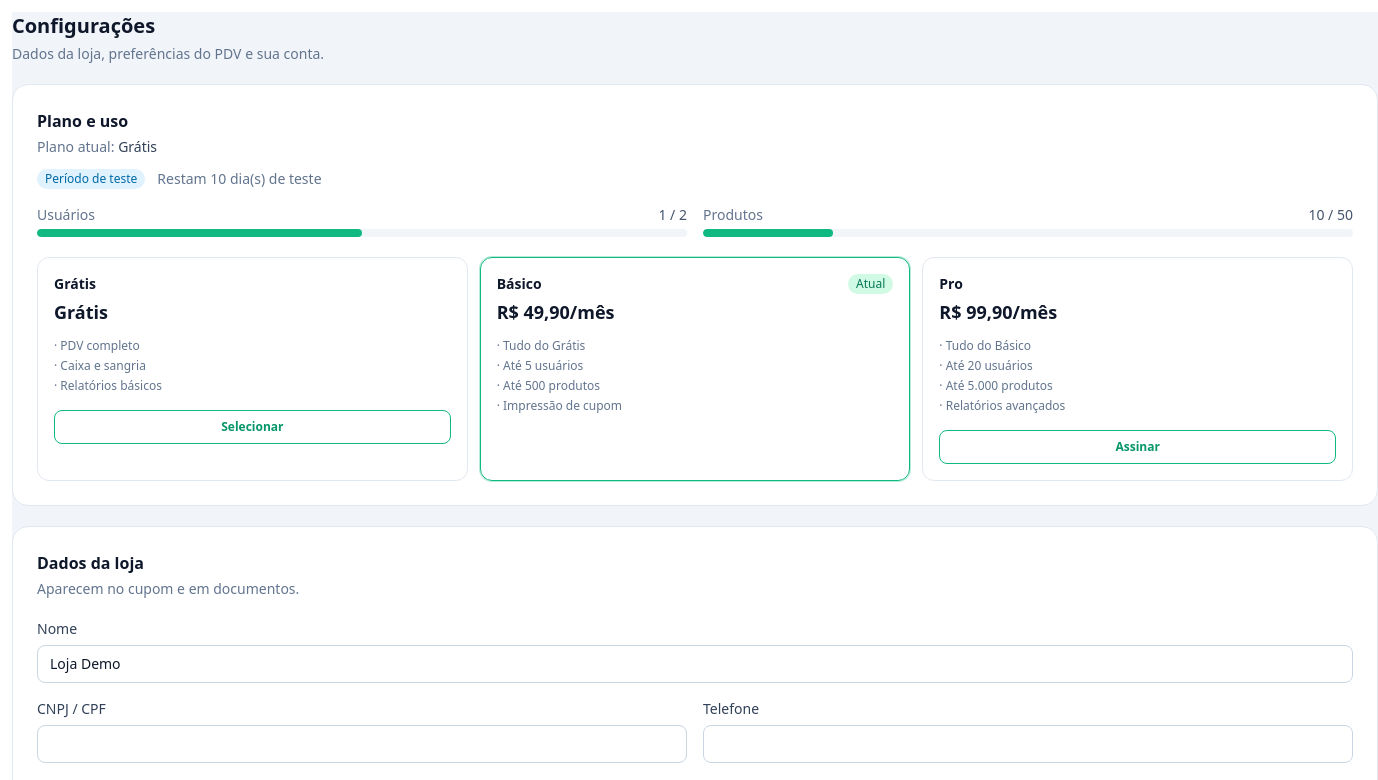
it: Settings › muda para um plano gratuito após confirmação
Expected: the field showing "Loja Demo" is shown, [37, 645, 1353, 683]
Click the button "Selecionar" at {"x": 252, "y": 427}, box [54, 410, 451, 444]
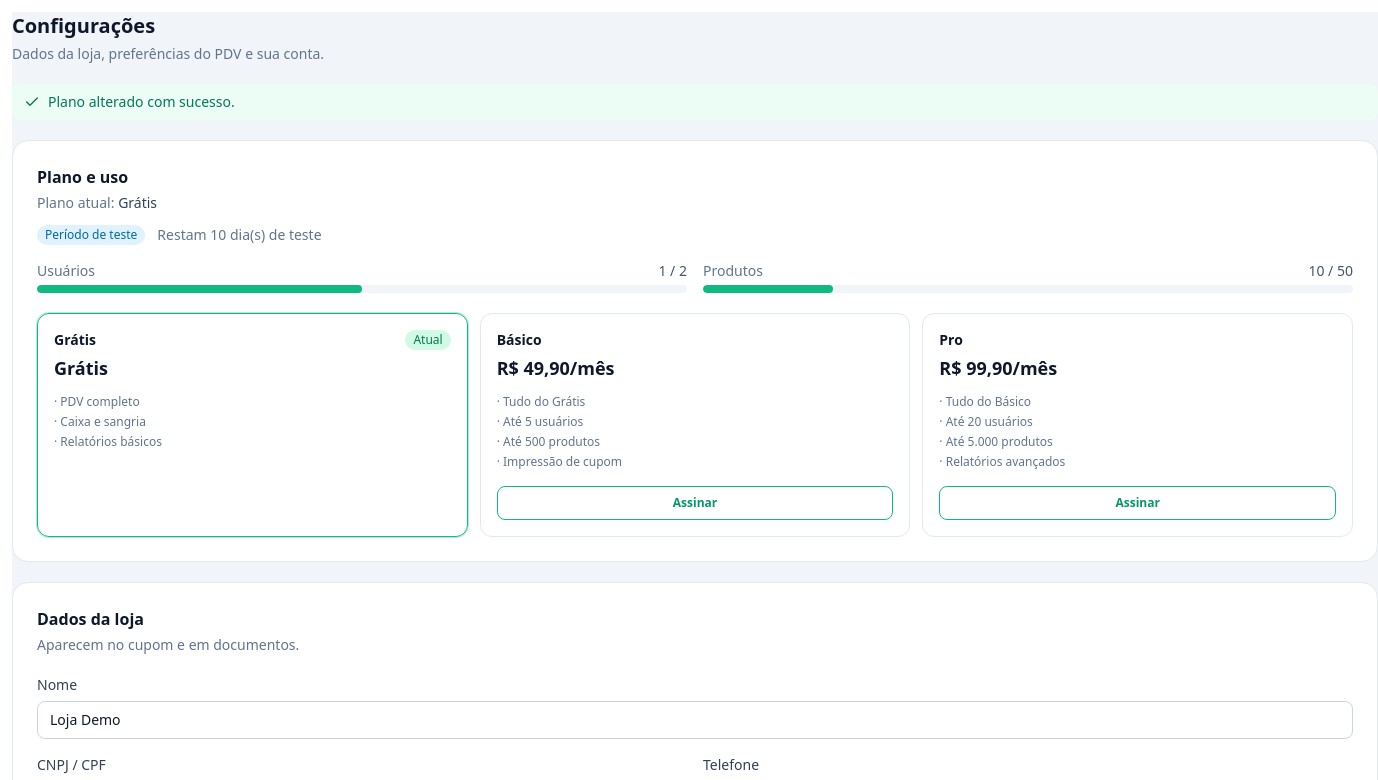
Expected: the text "Plano alterado com sucesso." is shown, [12, 84, 1377, 120]
